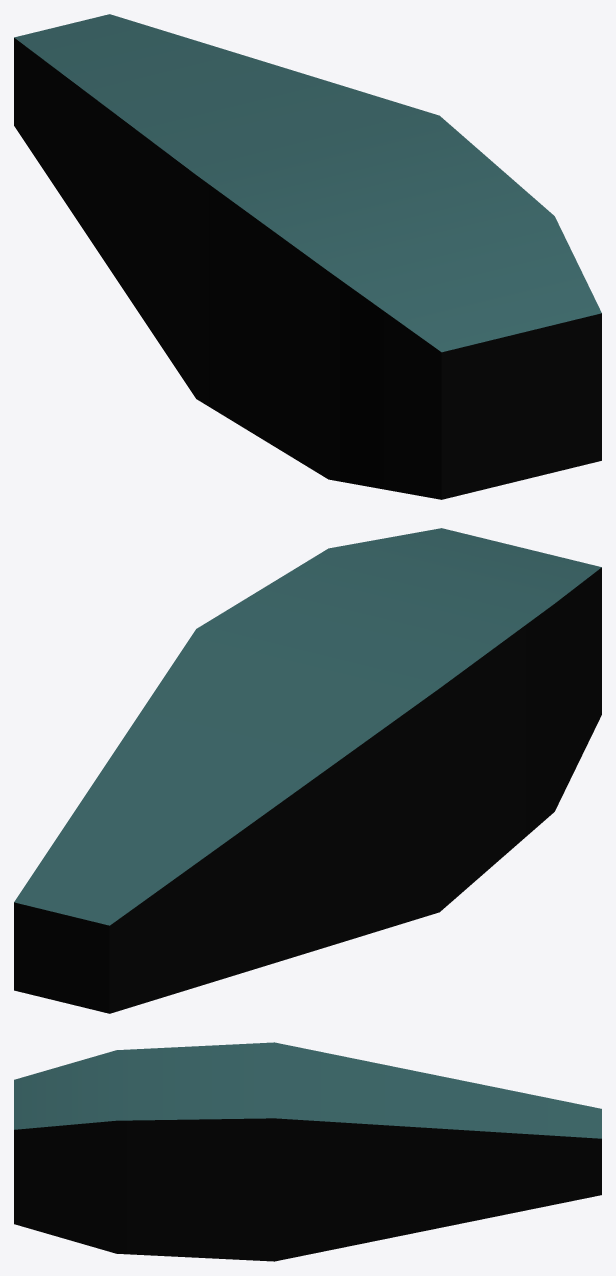
File: ButterflyOrange.glb
3 views of the same model, one above another, from view 1: azimuth 30°, elevation 25°; view 2: azimuth 150°, elevation 25°; view 3: azimuth 270°, elevation 25° (orthographic). The views are drawn at different scales.
Parts seen in each view (by area): view 1: ButterflyOrange; view 2: ButterflyOrange; view 3: ButterflyOrange.
Part boxes in pixels (x1=…): ButterflyOrange: x1=14, y1=14, x2=601, y2=499; ButterflyOrange: x1=14, y1=528, x2=601, y2=1013; ButterflyOrange: x1=14, y1=1042, x2=601, y2=1261.
Size of the model in its own units: 0.0614 by 0.054 by 0.201.
